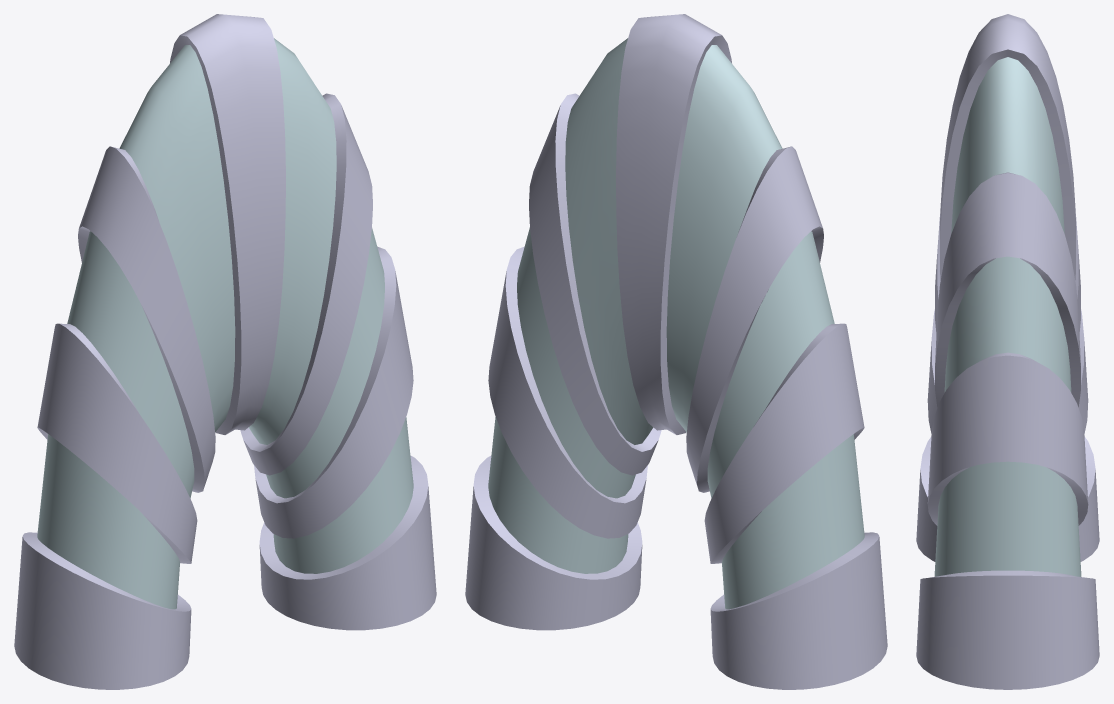
Rendered from house0.fbx.
The picture shows the model from 3 angles, left to right: view 1: azimuth 30°, elevation 25°; view 2: azimuth 150°, elevation 25°; view 3: azimuth 270°, elevation 25°; orthographic projection. The views are drawn at different scales.
Visible parts, largest first — view 1: house0; view 2: house0; view 3: house0.
Part boxes in pixels (bbox=[...]): house0: bbox=[14, 14, 436, 689]; house0: bbox=[465, 14, 887, 689]; house0: bbox=[916, 14, 1099, 689].
Size of the model in its own units: 2.46 by 3.62 by 1.04.
